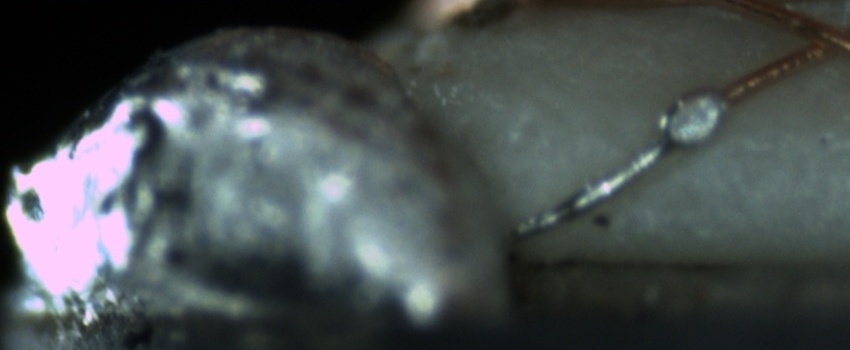CL: (777, 11, 846, 73)
TB: (654, 78, 731, 155)
TS: (497, 91, 725, 247)
TTCW: (503, 57, 771, 249)
